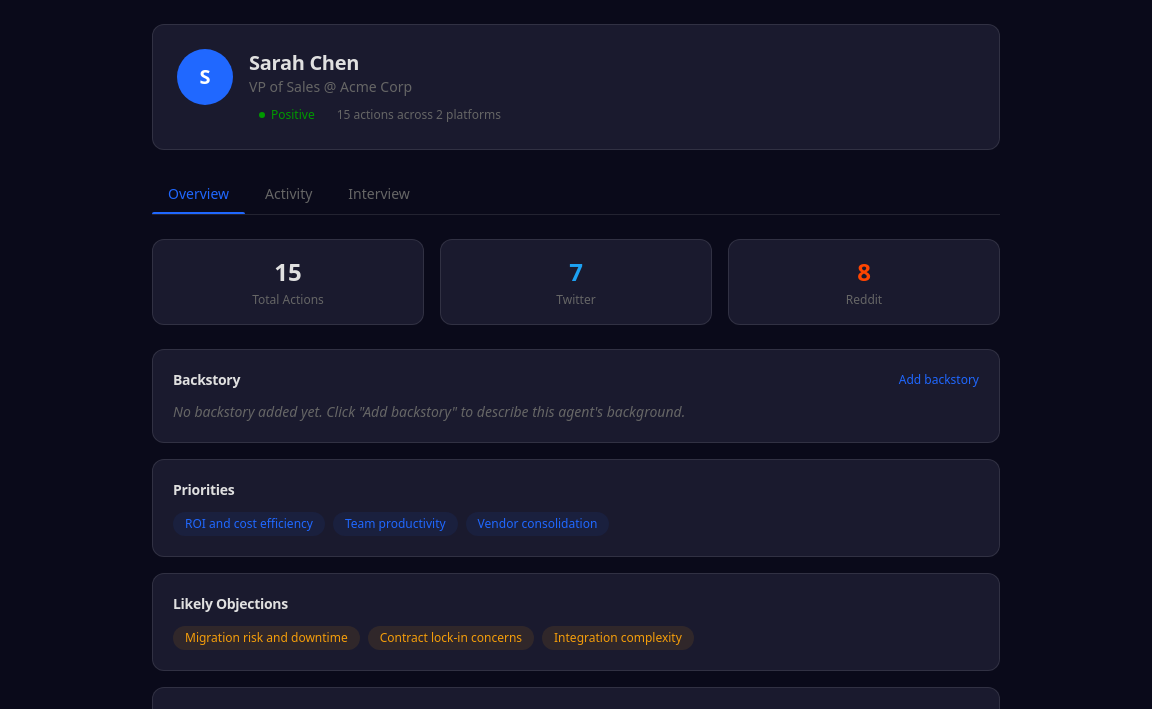
Scenario: AgentProfileView — E2E agent management › interview tab › sends user message and displays it
Click the button "Interview".
click(379, 194)  # box [332,174,426,214]
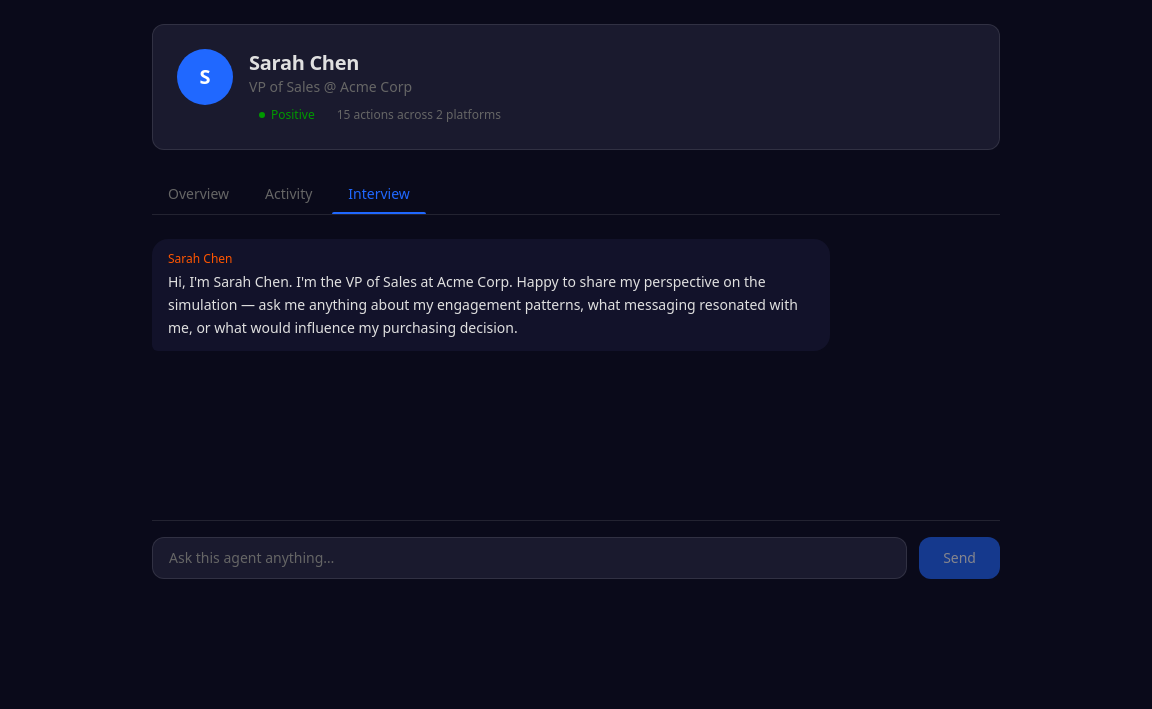
Type "What messaging worked?" into the field with placeholder "Ask this agent anything…".
click(530, 558); type("What messaging worked?")  # box [152,537,907,579]
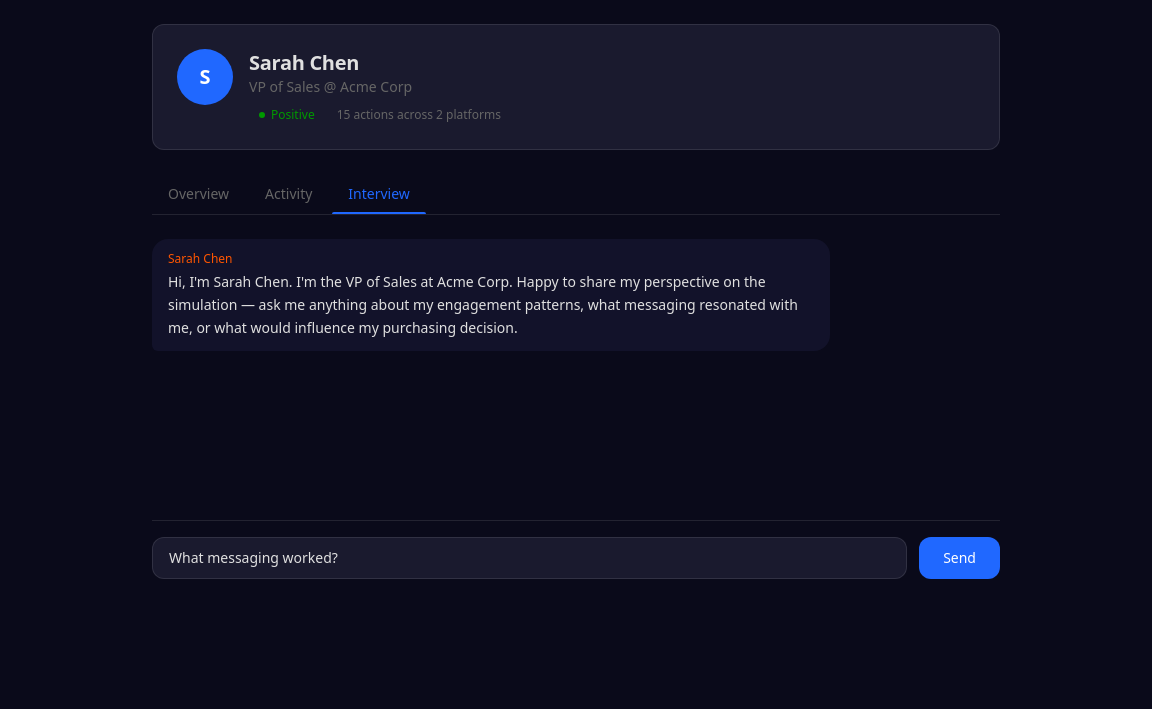
Click the button "Send".
click(960, 558)  # box [919,537,1000,579]
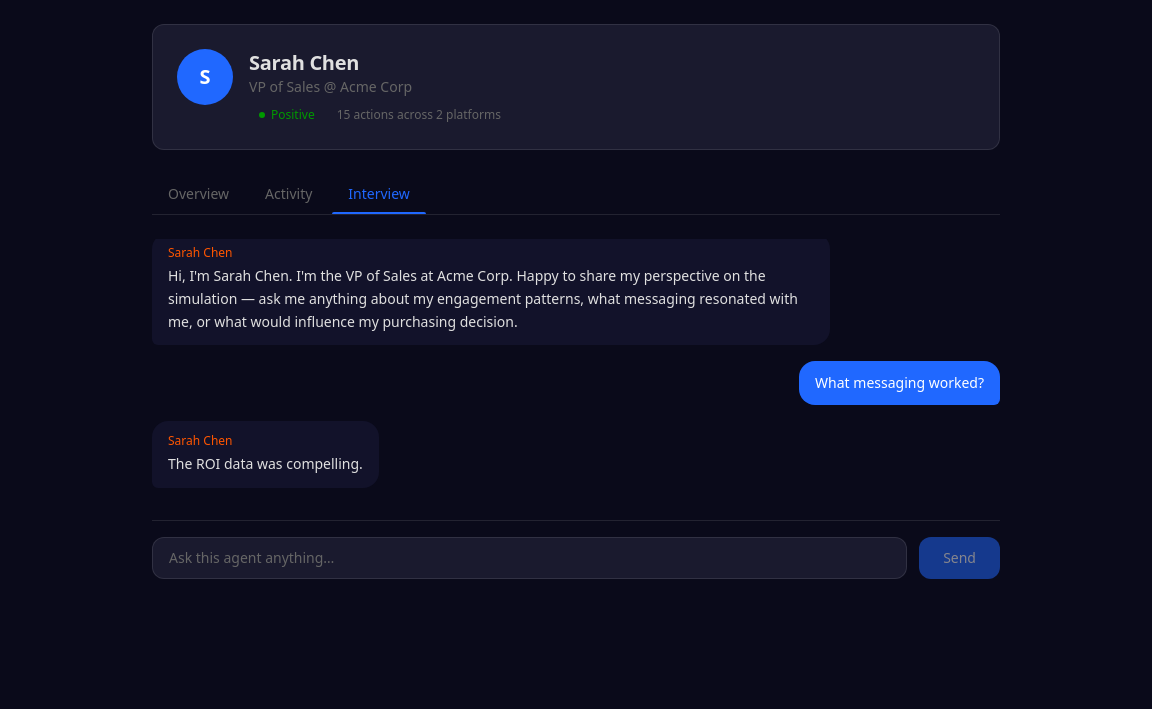
Expected: the text "What messaging worked?" is shown, [799,361,1000,405]
Expected: the text "The ROI data was compelling." is shown, [168,453,363,476]
